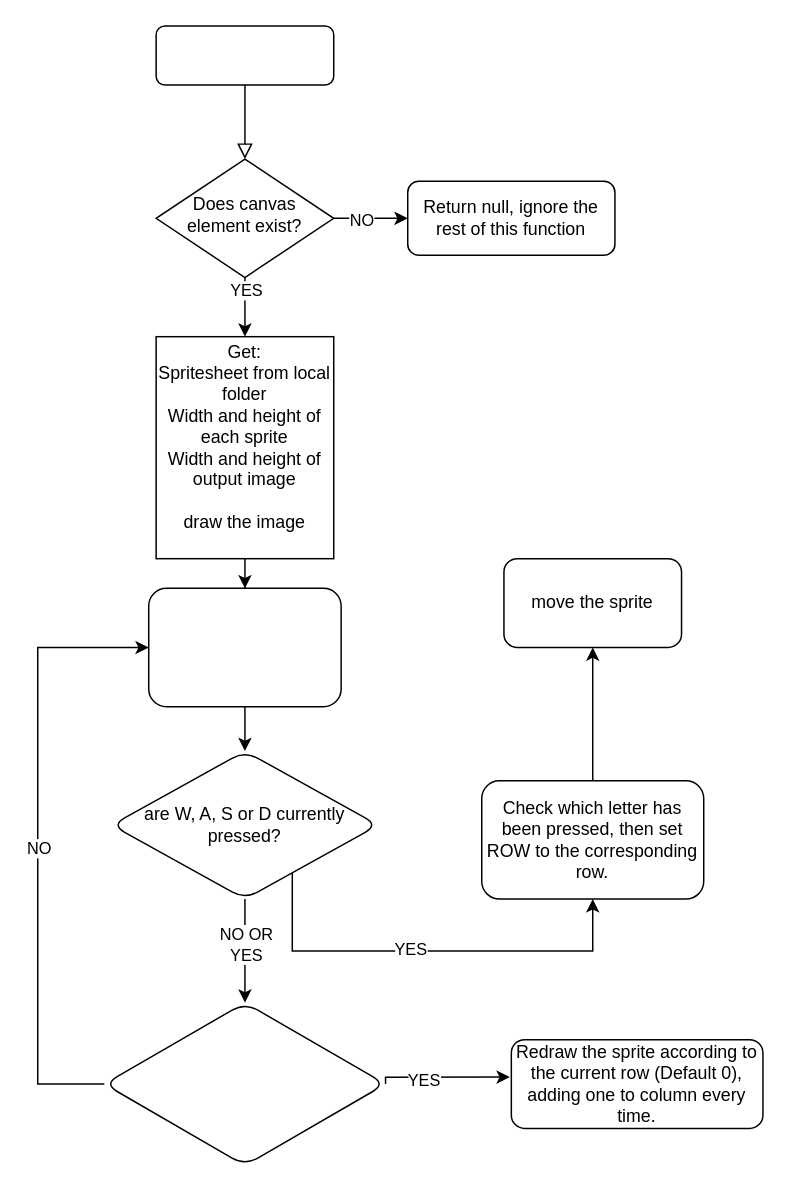
Image size: 789x1191. Some labels were removed from this diagram. The shapes that lost their labels are listed below. From the top down, each one's centre as x and y in pixels, then its label:
point 244,54: Window is loaded runSprite() is called
point 244,647: Call animateSprite using animation frame canvas method
point 244,1083: has this function been called 15 times? (this results in 4fps)
